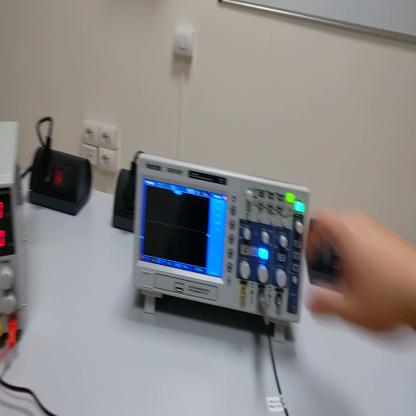hand: (305, 205, 411, 334)
oscilloscope: (119, 150, 303, 341)
power supply: (1, 116, 25, 339)
socket: (27, 145, 95, 217), (111, 164, 135, 235)
